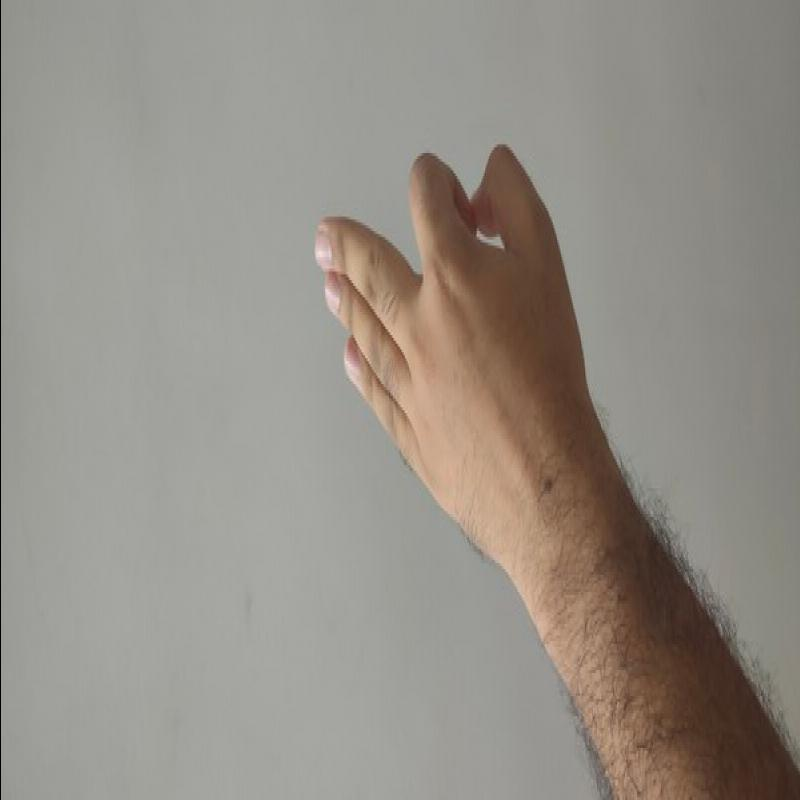Mudraakhyam: (283, 131, 614, 540)
